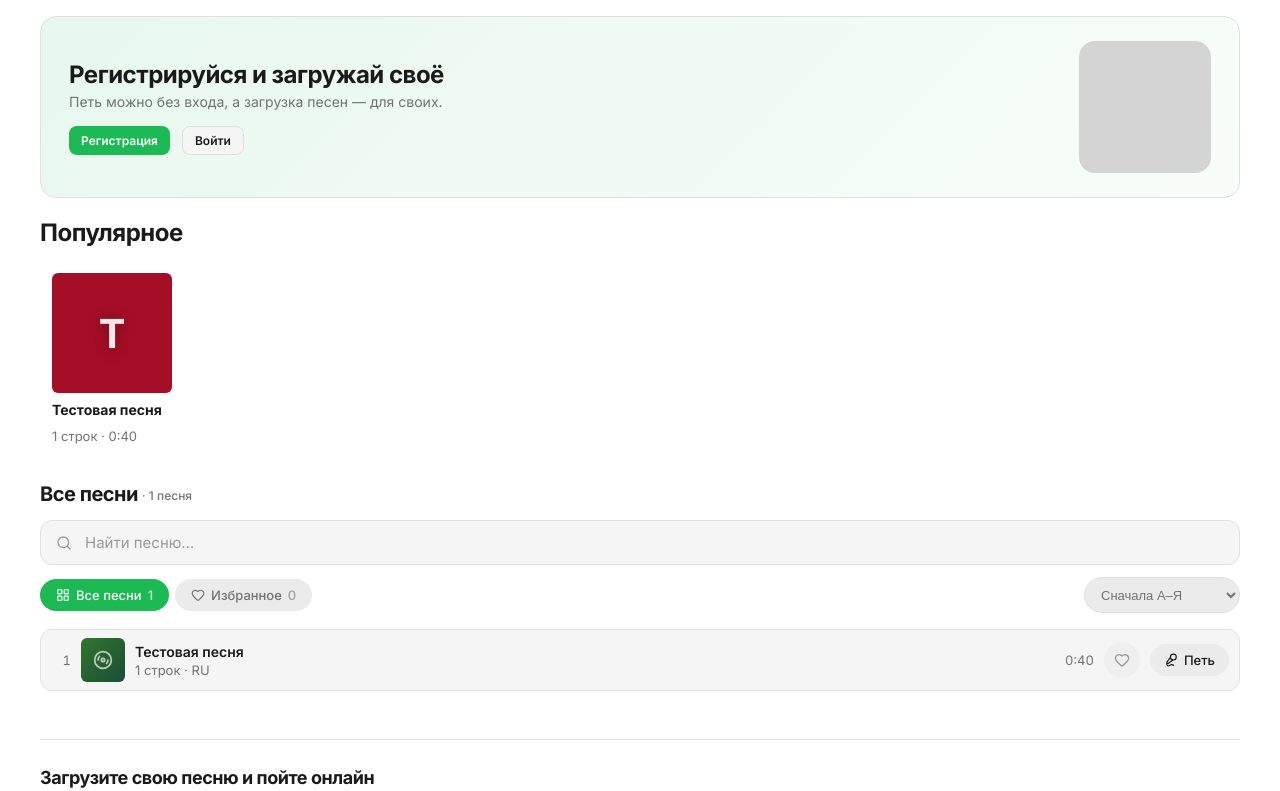
Catalog: исполнители и популярность › секция показывает живое число песен
Expected: the button "Петь" is shown, [1150,644,1229,676]
Expected: the heading "Все песни· 1 песня" is shown, [40,482,192,506]
Type "zzz" into the field labelled "Найти песню".
click(640, 542); type("zzz")  # box [40,520,1240,565]
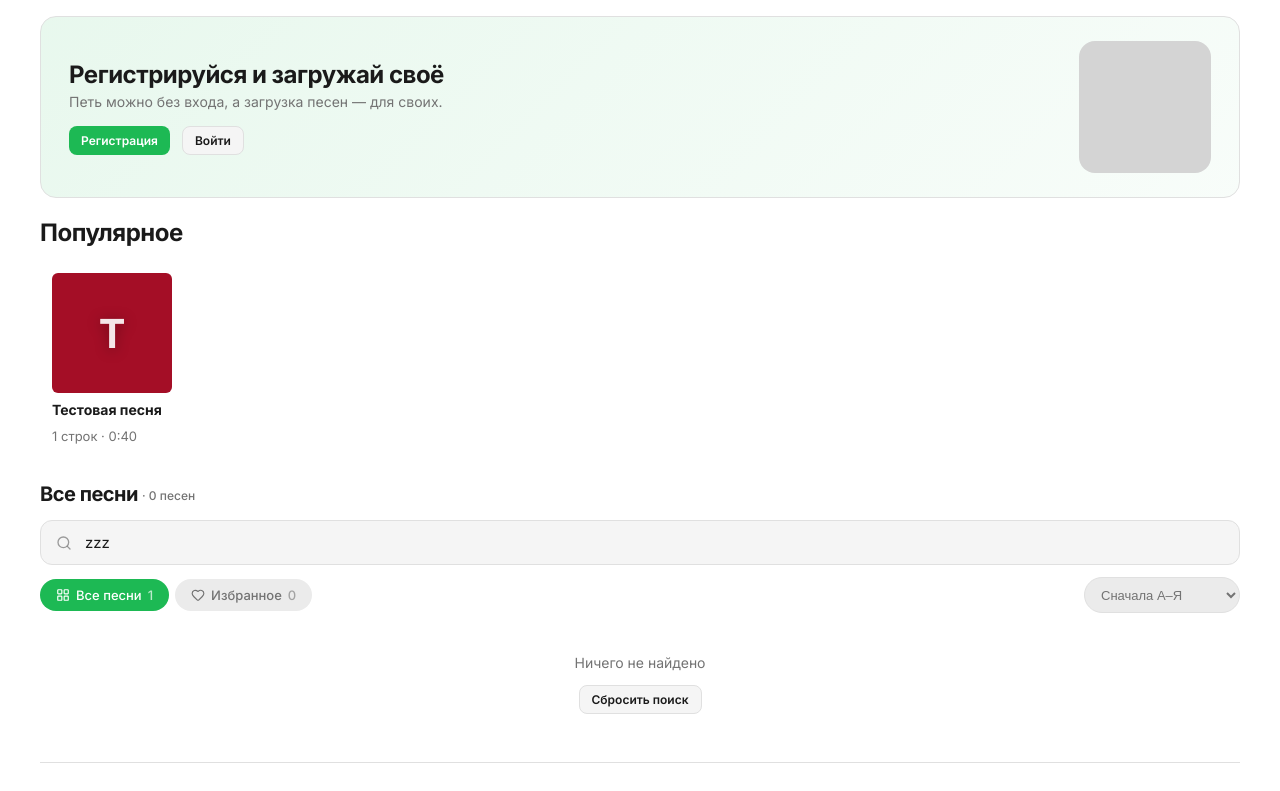
Expected: the heading "Все песни· 0 песен" is shown, [40,482,195,506]
